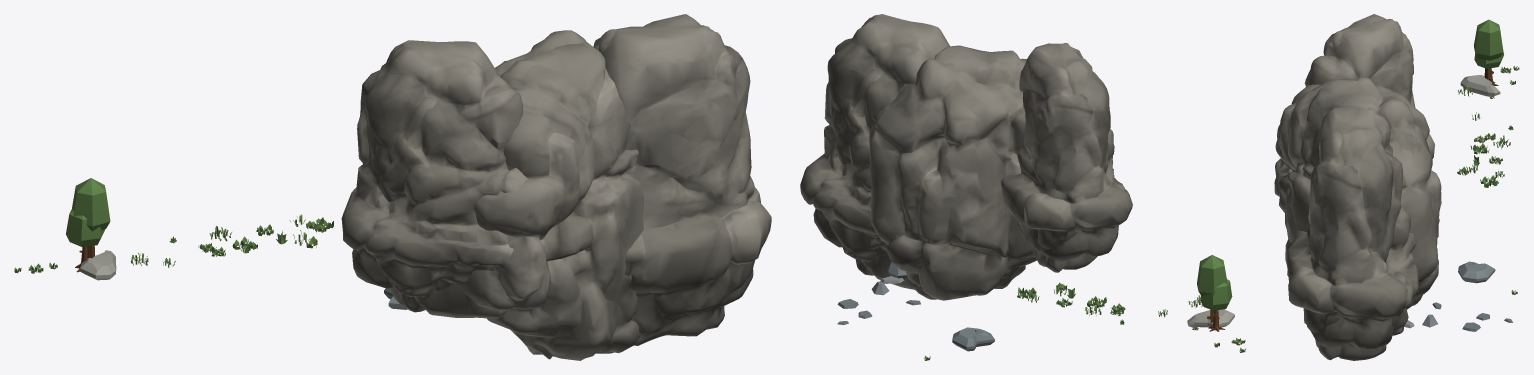
File: cell_x-2_z2_render.gltf
3 renders of one model, left to right at view 1: azimuth 30°, elevation 25°; view 2: azimuth 150°, elevation 25°; view 3: azimuth 270°, elevation 25°, orthographic. The views are drawn at different scales.
Parts seen in each view (by area): view 1: cell_x-2_z2; view 2: cell_x-2_z2; view 3: cell_x-2_z2.
Boxes of the visible parts, bbox=[...] form: cell_x-2_z2: bbox=[14, 14, 771, 360]; cell_x-2_z2: bbox=[800, 14, 1245, 360]; cell_x-2_z2: bbox=[1274, 14, 1519, 360].
Bounding box in the file's own units: 47.38 × 23.59 × 20.98.
12 materials, 1 textured.
